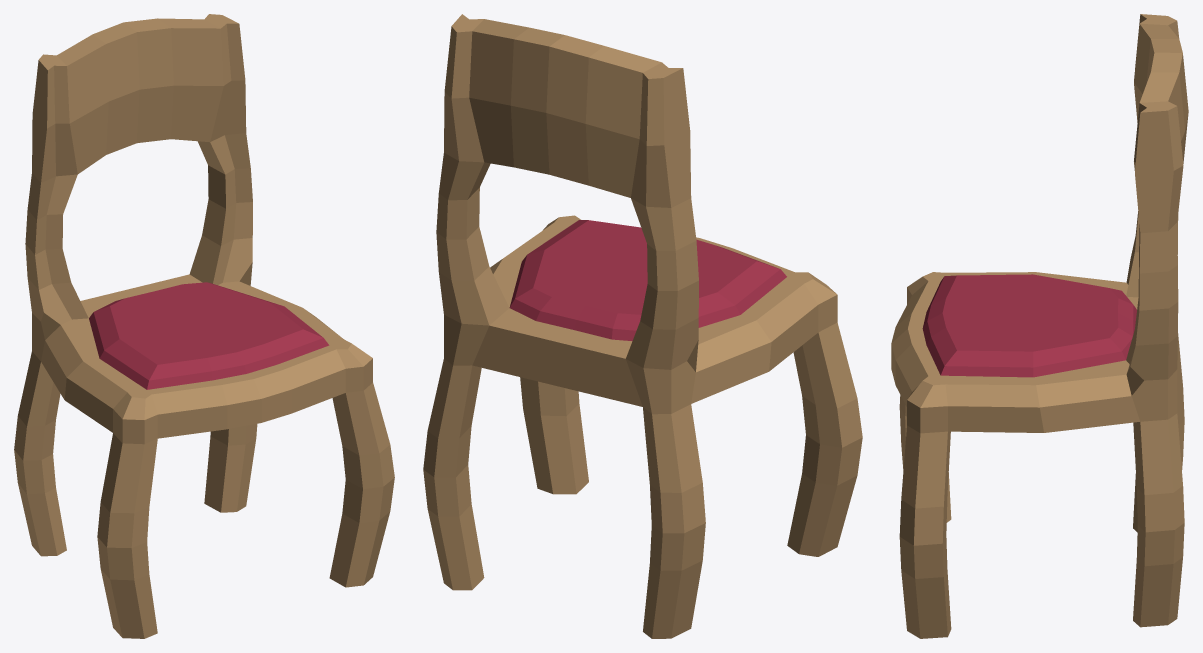
File: mod_chair.fbx
3 views of the same model, side by side, from view 1: azimuth 30°, elevation 25°; view 2: azimuth 150°, elevation 25°; view 3: azimuth 270°, elevation 25° (orthographic). The views are drawn at different scales.
Parts seen in each view (by area): view 1: mod_chair; view 2: mod_chair; view 3: mod_chair.
Part boxes in pixels (<box>): mod_chair: <box>14,14,394,638</box>; mod_chair: <box>423,14,862,638</box>; mod_chair: <box>891,14,1188,638</box>.
Bounding box in the file's own units: 51.01 × 83.69 × 43.23.
